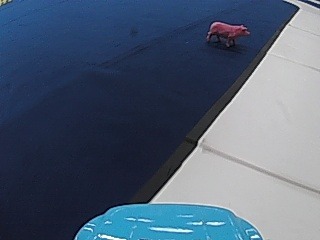pig: (205, 17, 250, 47)
